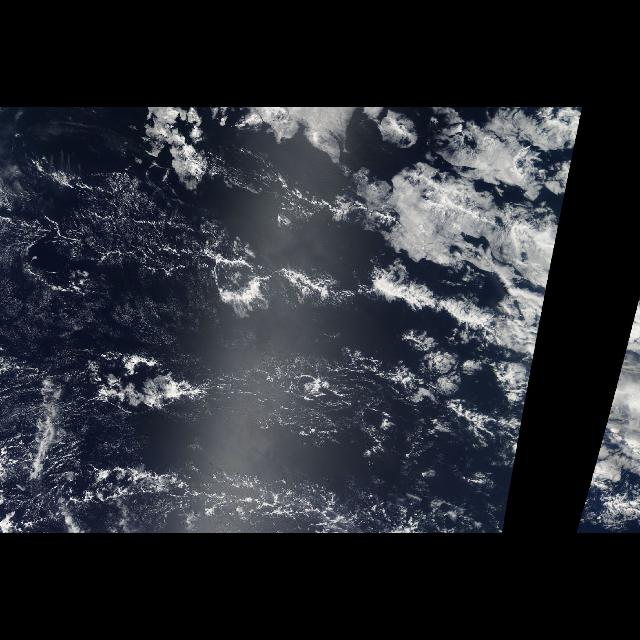Gravel: (16, 126, 448, 526)
Sugar: (40, 196, 188, 346)
